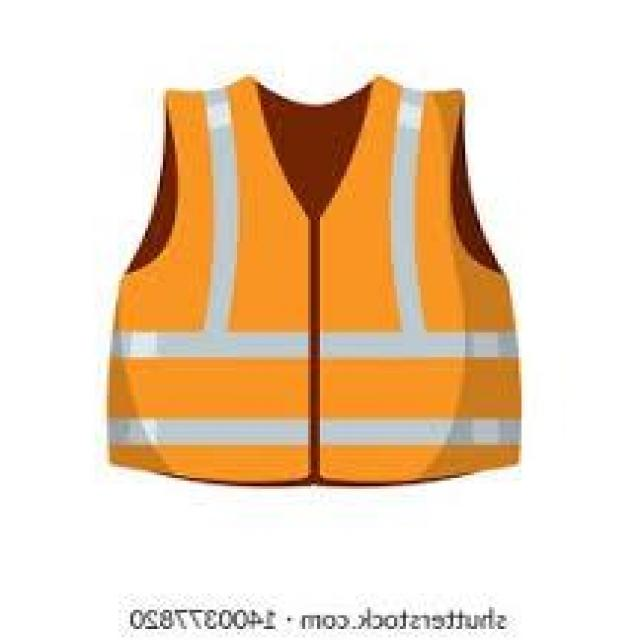Reflective-Jacket: (77, 66, 560, 500)
